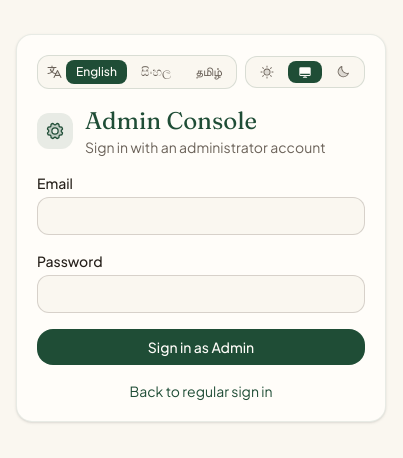
AdminLoginPage › explains a 403 as missing admin access rather than a bad password
This screenshot has width=403, height=458.
In the field labelled "Email": [201, 216] box [37,197,365,235], type "farmer@example.com"
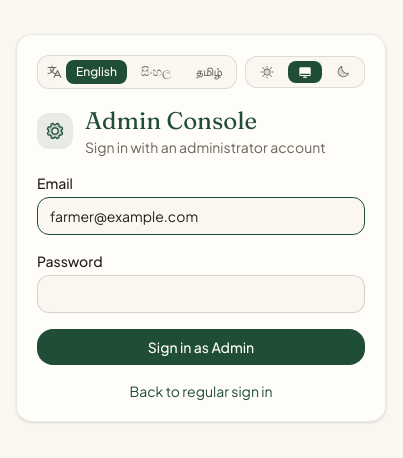
In the password field labelled "Password": [201, 294] box [37,275,365,313], type "Farmer@2026x"
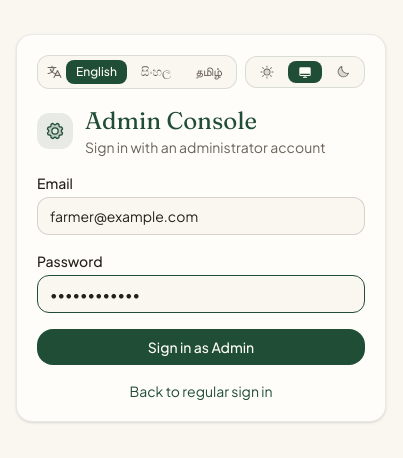
Click the button "Sign in as Admin": [201, 347] box [37,329,365,365]
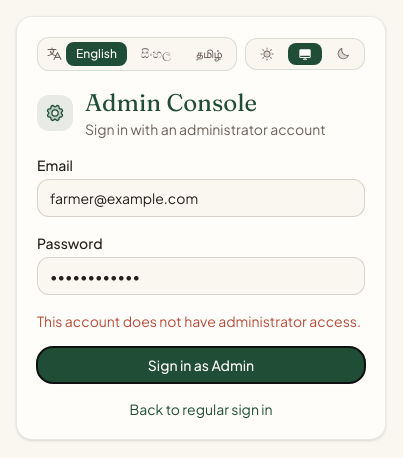
Now the text "This account does not have administrator access." is shown, box [37,311,365,331]
